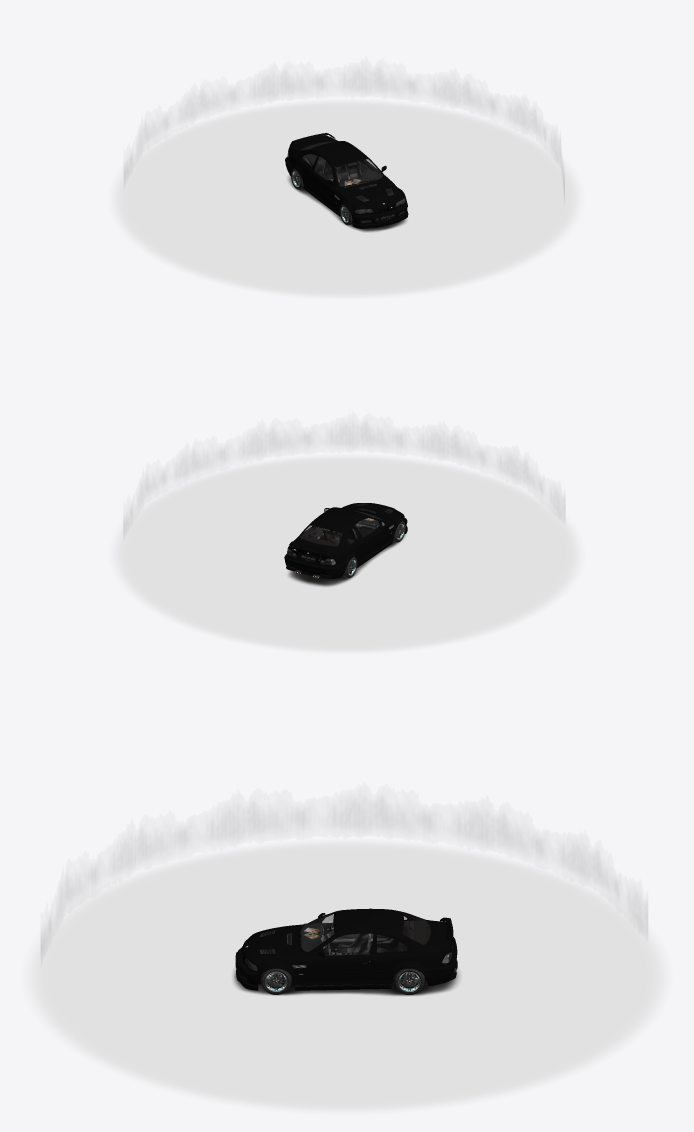
Rendered from bmw.glb.
3 renders of one model, top to bottom at view 1: azimuth 30°, elevation 25°; view 2: azimuth 150°, elevation 25°; view 3: azimuth 270°, elevation 25°, orthographic. The views are drawn at different scales.
Parts seen in each view (by area): view 1: Object_22, Object_3, Object_31, Object_56, Object_9, Object_8; view 2: Object_22, Object_3, Object_31, Object_9, Object_12, Object_57, Object_8; view 3: Object_22, Object_3, Object_31, Object_9, Object_56, Object_12, Object_8, Object_57.
Part boxes in pixels (x1,y1,x2,y2): Object_22: (109, 99, 583, 298); Object_3: (285, 136, 408, 228); Object_31: (300, 141, 382, 186); Object_56: (315, 157, 381, 186); Object_9: (289, 133, 366, 165); Object_8: (297, 140, 399, 228); Object_22: (110, 454, 583, 653); Object_3: (284, 503, 407, 578); Object_31: (299, 511, 381, 546); Object_9: (289, 507, 365, 555); Object_12: (289, 534, 405, 586); Object_57: (300, 526, 358, 545); Object_8: (296, 505, 385, 574); Object_22: (24, 839, 670, 1113); Object_3: (235, 908, 457, 990); Object_31: (300, 912, 430, 955); Object_9: (335, 909, 453, 950); Object_56: (301, 913, 372, 954); Object_12: (233, 969, 458, 995); Object_8: (235, 911, 452, 989); Object_57: (377, 913, 429, 952).
Size of the model in its own units: 14.03 by 2.9 by 13.97.
53 materials, 44 textured.
